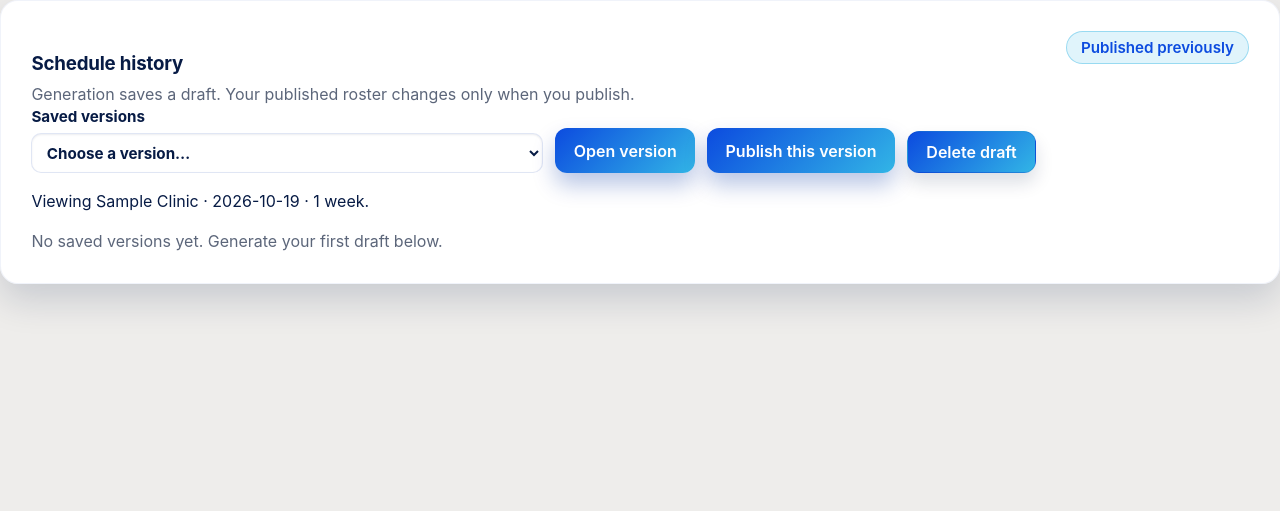
it: publishing › allows a previously published version to be reviewed for restoration
This screenshot has width=1280, height=511.
Click the button "Publish this version".
click(801, 151)  # box [707,128,895,173]
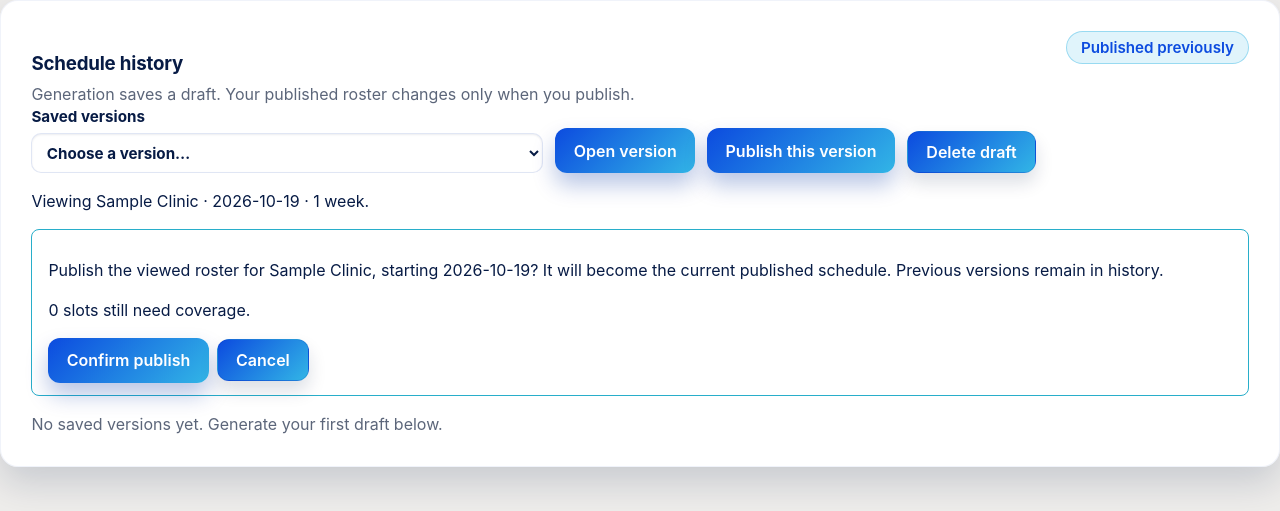
Now the button "Confirm publish" is shown, box [48,338,209,383]
